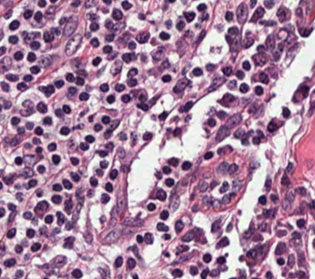nucleus: (65, 34, 81, 55), (225, 114, 241, 128), (173, 78, 188, 92), (104, 229, 120, 242), (209, 77, 224, 90), (252, 52, 266, 65), (216, 126, 228, 141), (51, 255, 66, 267), (35, 201, 48, 214), (117, 191, 125, 212), (124, 217, 142, 225), (111, 60, 121, 74), (73, 203, 81, 220), (137, 32, 149, 43), (152, 48, 163, 60), (216, 162, 227, 173), (275, 242, 285, 254), (266, 35, 274, 49), (39, 56, 50, 66), (181, 101, 192, 111), (182, 231, 193, 241), (63, 237, 73, 248), (217, 237, 228, 247), (176, 245, 188, 254), (243, 37, 253, 47), (44, 85, 54, 95), (267, 121, 277, 131), (259, 72, 268, 83), (228, 163, 237, 174), (64, 199, 71, 213), (56, 212, 64, 224), (43, 32, 53, 41), (299, 86, 308, 96), (223, 93, 233, 102), (37, 102, 46, 112), (109, 120, 118, 130), (143, 233, 152, 243), (281, 174, 289, 185), (157, 189, 165, 200), (175, 220, 183, 231), (157, 223, 168, 231), (122, 53, 131, 62), (222, 66, 231, 75), (75, 76, 84, 85), (239, 83, 248, 92), (222, 194, 231, 203), (197, 31, 205, 41), (127, 68, 137, 76), (199, 181, 207, 191), (220, 182, 228, 192), (295, 187, 305, 195), (51, 195, 61, 203), (263, 209, 273, 217), (211, 221, 219, 231), (127, 258, 135, 268), (72, 269, 82, 277), (288, 254, 294, 267), (137, 103, 148, 110), (105, 33, 114, 41), (30, 41, 39, 49), (127, 78, 136, 86), (227, 80, 236, 88), (255, 86, 263, 95), (138, 93, 146, 102), (121, 94, 130, 102), (234, 129, 243, 137), (143, 132, 152, 140), (182, 161, 191, 169), (63, 179, 71, 188), (101, 194, 109, 203), (258, 195, 266, 204), (211, 199, 219, 208), (160, 210, 168, 219), (31, 243, 40, 251), (247, 249, 256, 257), (159, 32, 169, 39), (272, 50, 279, 60), (192, 68, 202, 75), (282, 107, 289, 117), (168, 158, 178, 165), (233, 180, 240, 190), (84, 233, 91, 243), (115, 257, 122, 267), (172, 269, 182, 276), (103, 45, 111, 53), (92, 57, 100, 65), (242, 61, 250, 69), (66, 73, 74, 81), (100, 83, 108, 91), (106, 95, 114, 103), (55, 109, 63, 117), (159, 112, 167, 120), (252, 136, 260, 144), (204, 151, 212, 159), (70, 157, 78, 165), (71, 173, 79, 181), (165, 178, 173, 186), (44, 215, 52, 223), (203, 254, 211, 262), (30, 66, 39, 73), (115, 84, 124, 91), (79, 93, 88, 100), (60, 127, 69, 134), (85, 135, 94, 142), (117, 148, 124, 157), (110, 169, 117, 178), (90, 177, 97, 186), (286, 192, 293, 201), (201, 269, 208, 278), (97, 150, 107, 156), (91, 38, 98, 46), (128, 41, 135, 49), (236, 70, 243, 78), (55, 80, 63, 87), (68, 87, 76, 94), (150, 96, 157, 104), (63, 105, 70, 113), (217, 111, 225, 118), (43, 117, 51, 124), (208, 118, 215, 126), (173, 128, 180, 136), (104, 129, 111, 137), (48, 143, 56, 150), (80, 143, 88, 150), (52, 155, 59, 163), (37, 165, 44, 173), (53, 183, 61, 190), (105, 183, 112, 191), (147, 203, 155, 210), (297, 219, 304, 227), (190, 266, 197, 274), (225, 35, 231, 44), (206, 64, 215, 70), (77, 70, 86, 76), (286, 163, 292, 172), (277, 230, 286, 236), (296, 271, 305, 277), (265, 179, 270, 189), (257, 45, 264, 52), (102, 116, 109, 123), (94, 124, 101, 131), (35, 127, 42, 134), (119, 133, 126, 140), (241, 137, 248, 144), (163, 166, 170, 173), (259, 223, 266, 230), (162, 75, 170, 81), (257, 130, 263, 138), (217, 257, 225, 263), (210, 270, 218, 276), (33, 137, 40, 143), (106, 142, 112, 149), (100, 161, 107, 167), (96, 169, 102, 176), (210, 181, 216, 188), (36, 189, 42, 196), (270, 194, 277, 200), (136, 235, 142, 242), (278, 43, 283, 51), (227, 223, 232, 231), (253, 235, 261, 240), (87, 190, 93, 196), (277, 258, 283, 264), (266, 271, 272, 277), (163, 60, 168, 67), (292, 233, 299, 238), (36, 147, 41, 153), (164, 234, 170, 239), (66, 222, 70, 229), (311, 200, 314, 208), (239, 256, 243, 260), (89, 116, 92, 121), (54, 229, 59, 231)
